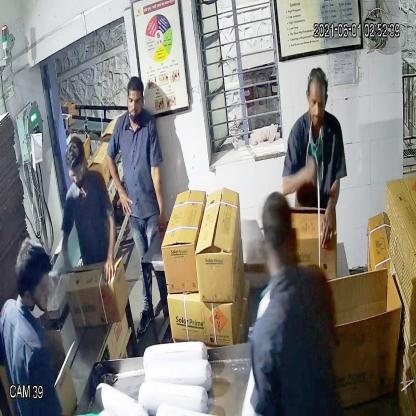goggles: (66, 158, 88, 186)
no_goggles: (122, 90, 148, 112), (305, 92, 329, 112)
